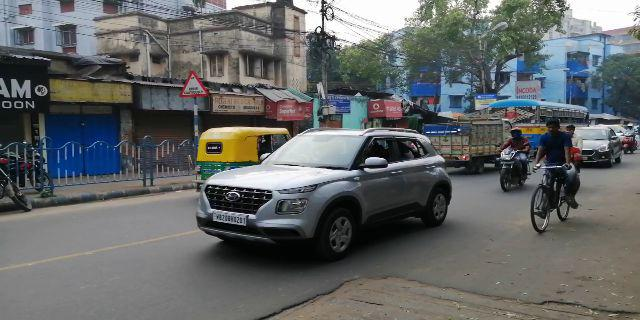Autorickshaw: (192, 119, 291, 189)
Car: (197, 130, 449, 251)
Cycle: (529, 123, 576, 233)
Motorbike: (496, 124, 533, 189)
